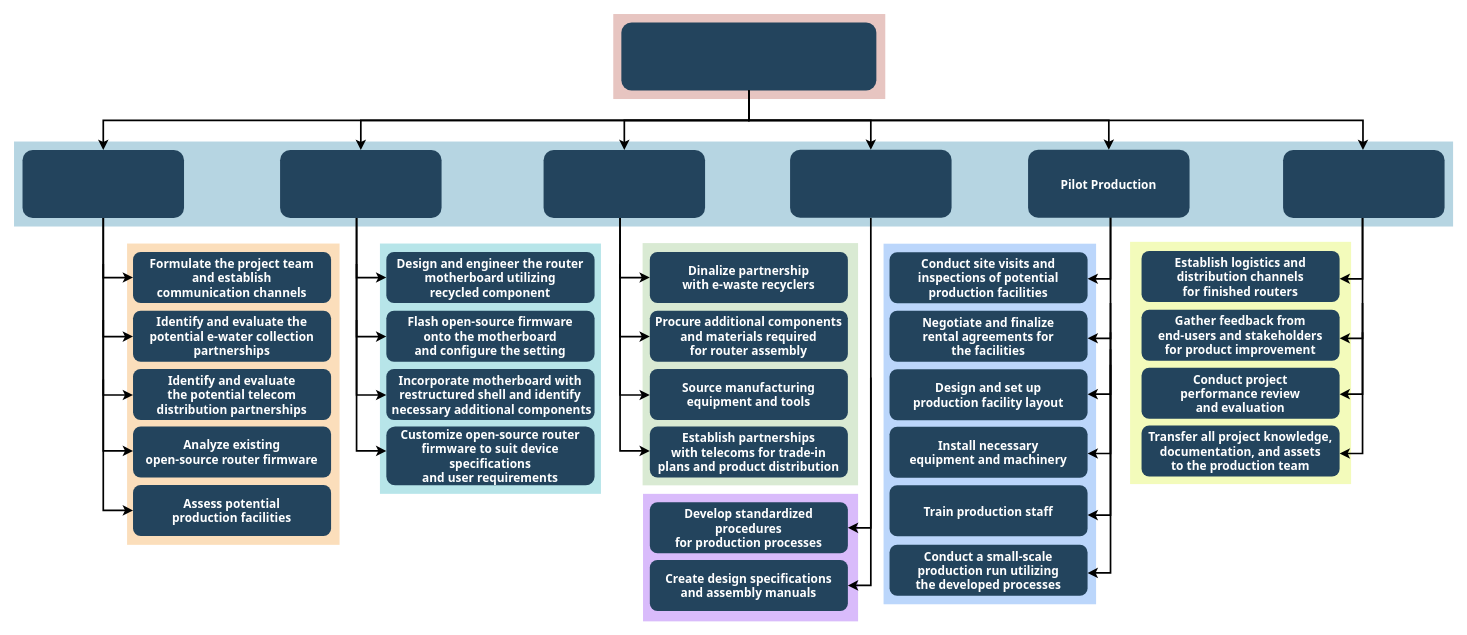
Some shapes in this 1467 by 635 pixel diagram are drawn without their labels. The shapes that lost their labels are listed below. From the top down, each one's centre as x and y in pixels, then its label:
At point 748,56: "Project Router Phone Repurposing".
At point 103,184: "Project Initiation and Research".
At point 360,184: "Design and Prototyping Development".
At point 624,184: "Procurement and Partnership".
At point 870,183: "Refurbishment Process Development".
At point 1363,184: "Project Completion and Handover".
